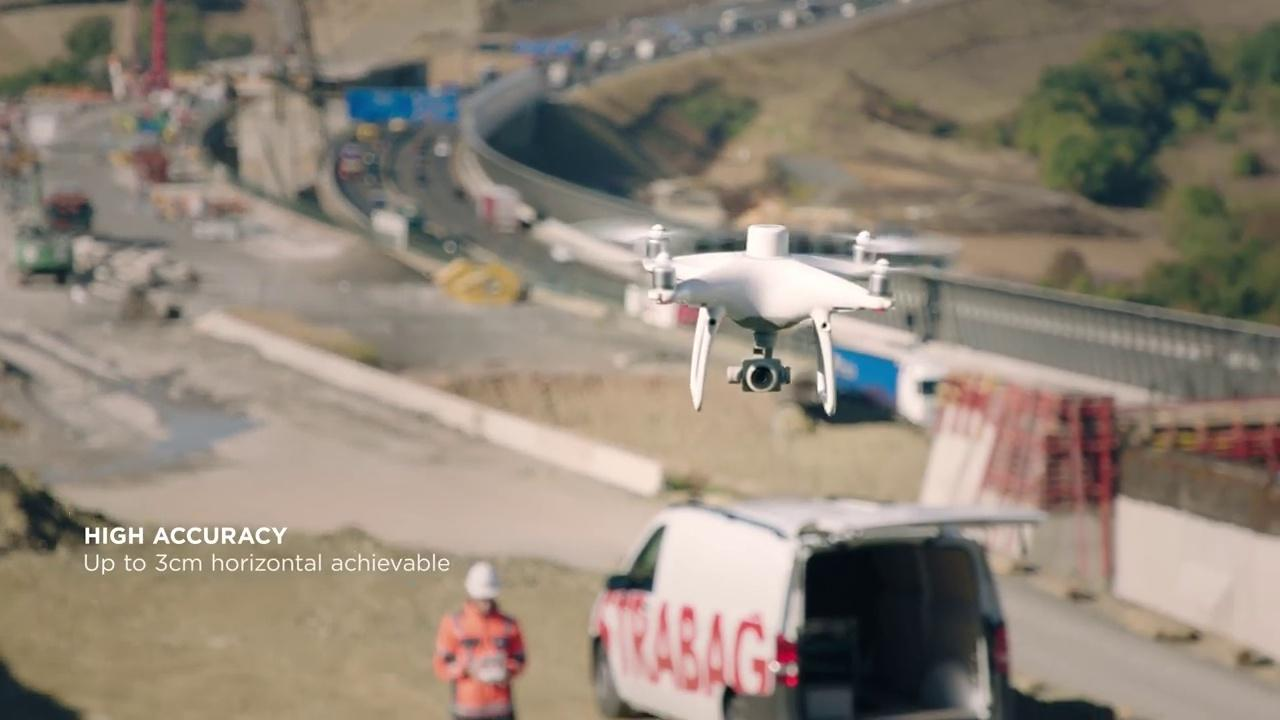drone: (576, 219, 962, 413)
